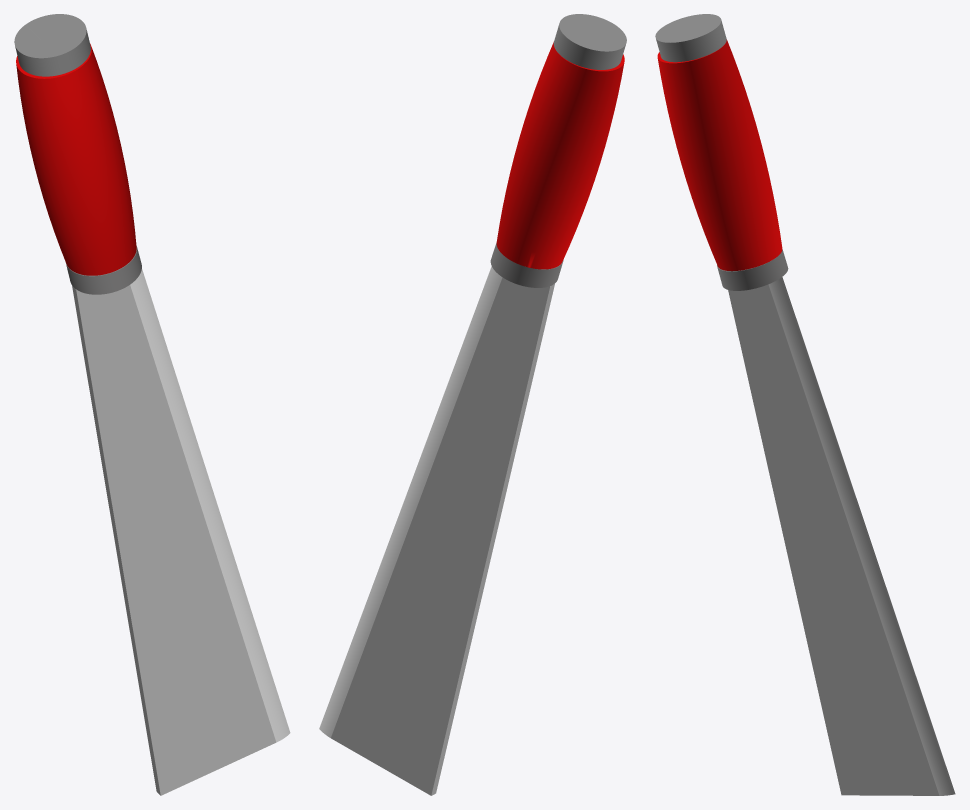
Rendered from Thang.glb.
3 views of the same model, side by side, from view 1: azimuth 30°, elevation 25°; view 2: azimuth 150°, elevation 25°; view 3: azimuth 330°, elevation 25° (orthographic). The views are drawn at different scales.
Parts seen in each view (by area): view 1: imagetostl_mesh6, imagetostl_mesh1, imagetostl_mesh5, imagetostl_mesh3, imagetostl_mesh4; view 2: imagetostl_mesh6, imagetostl_mesh1, imagetostl_mesh5, imagetostl_mesh3, imagetostl_mesh4; view 3: imagetostl_mesh6, imagetostl_mesh1, imagetostl_mesh5, imagetostl_mesh3, imagetostl_mesh4.
Part boxes in pixels (x1=…): imagetostl_mesh6: x1=72, y1=285, x2=276, y2=795; imagetostl_mesh1: x1=16, y1=43, x2=136, y2=275; imagetostl_mesh5: x1=130, y1=269, x2=290, y2=742; imagetostl_mesh3: x1=14, y1=14, x2=90, y2=76; imagetostl_mesh4: x1=65, y1=245, x2=141, y2=294; imagetostl_mesh6: x1=331, y1=277, x2=554, y2=795; imagetostl_mesh1: x1=496, y1=42, x2=624, y2=269; imagetostl_mesh5: x1=319, y1=266, x2=502, y2=737; imagetostl_mesh3: x1=553, y1=14, x2=626, y2=69; imagetostl_mesh4: x1=490, y1=243, x2=563, y2=287; imagetostl_mesh6: x1=728, y1=284, x2=939, y2=795; imagetostl_mesh1: x1=657, y1=39, x2=782, y2=271; imagetostl_mesh5: x1=768, y1=276, x2=955, y2=795; imagetostl_mesh3: x1=655, y1=14, x2=726, y2=62; imagetostl_mesh4: x1=717, y1=249, x2=788, y2=290.
Bounding box in the file's own units: 73.74 × 197 × 22.32.
